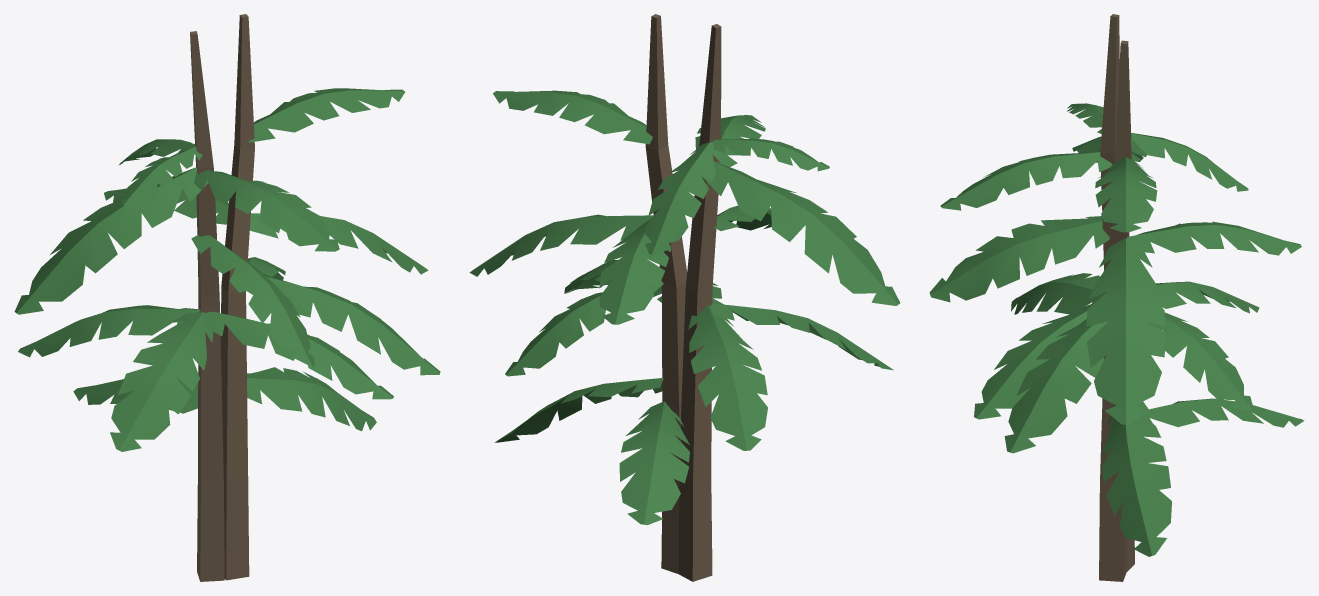
The model's file is tree.glb.
3 views of the same model, side by side, from view 1: azimuth 30°, elevation 25°; view 2: azimuth 150°, elevation 25°; view 3: azimuth 270°, elevation 25° (orthographic).
Parts seen in each view (by area): view 1: Tree; view 2: Tree; view 3: Tree.
Boxes of the visible parts, x1,y1,x2,y2 form: Tree: (14,14,440,581); Tree: (469,14,900,581); Tree: (929,14,1304,581).
Size of the model in its own units: 2.25 by 2.83 by 1.77.
